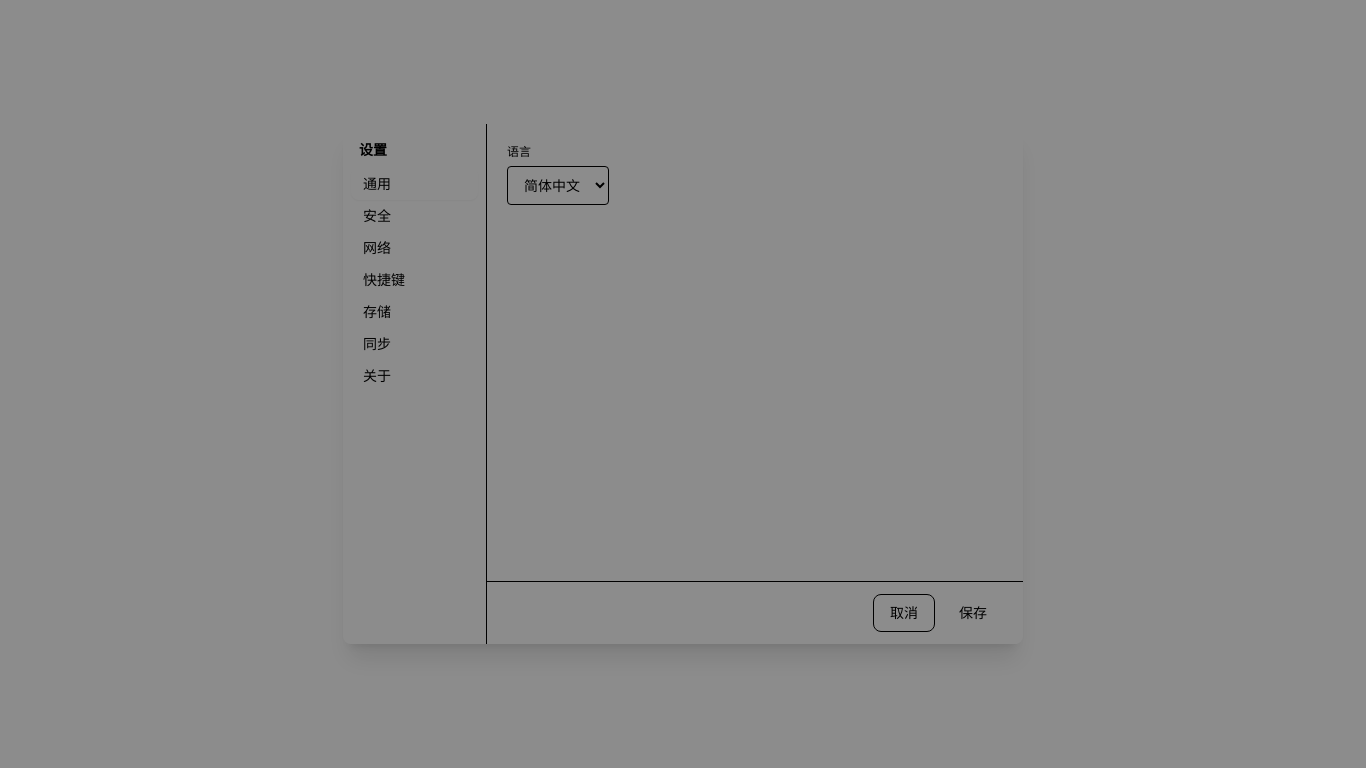
Test case: SettingsDialog 快捷键自定义 › 拒绝不安全组合并给出提示
The width and height of the screenshot is (1366, 768).
Click the button "快捷键" at (414, 280), box [351,264,478,296]
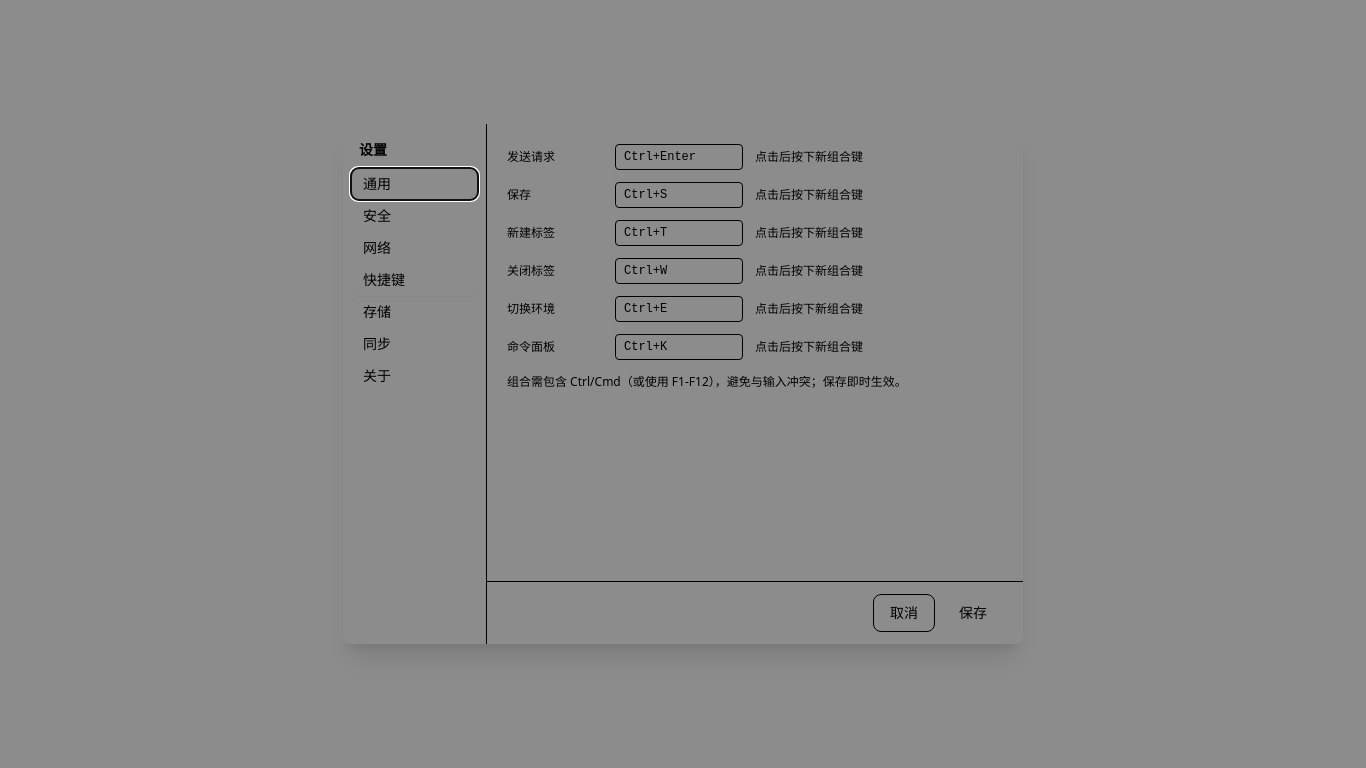
Check: the field with test id "hotkey-palette" holds "Ctrl+K"
Press g in the field with test id "hotkey-palette", box [615,334,743,360]
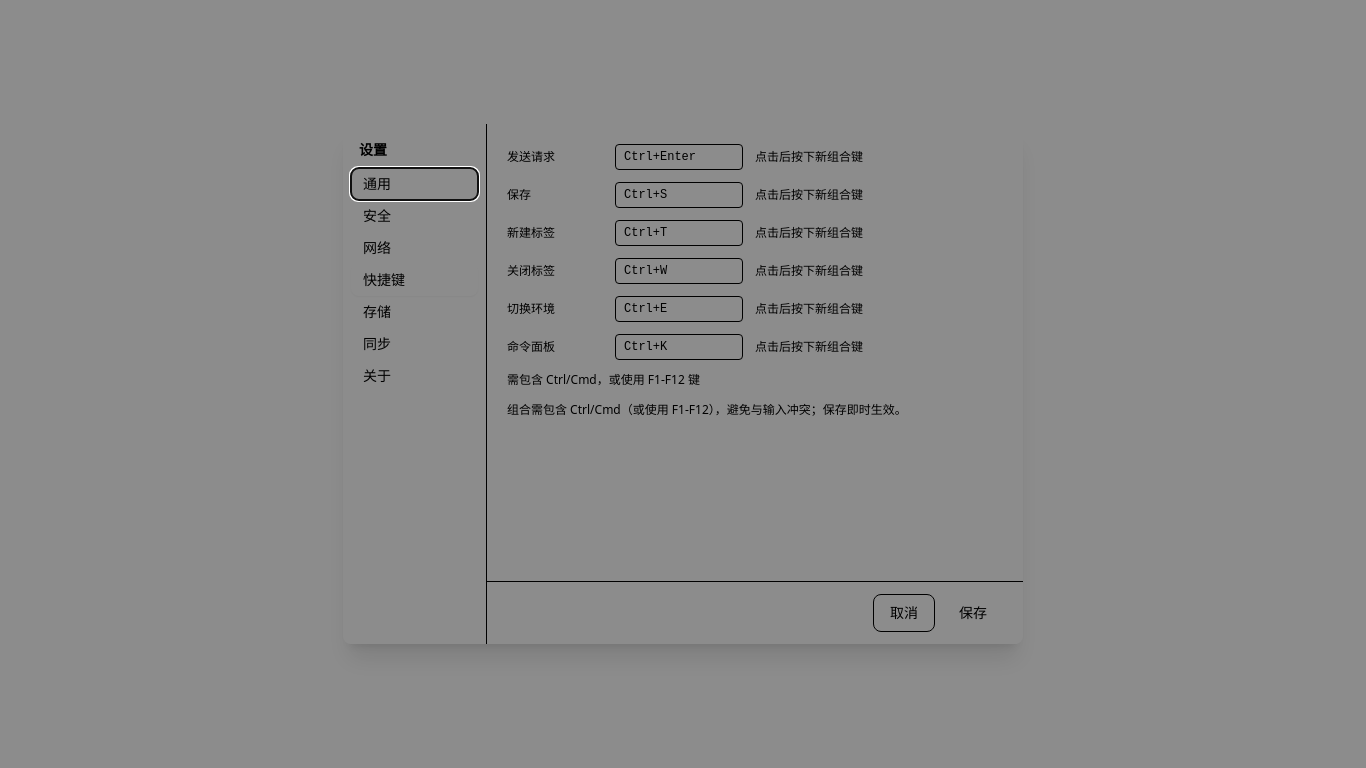
Check: the text "需包含 Ctrl/Cmd，或使用 F1-F12 键" is shown, box [507,371,700,388]
